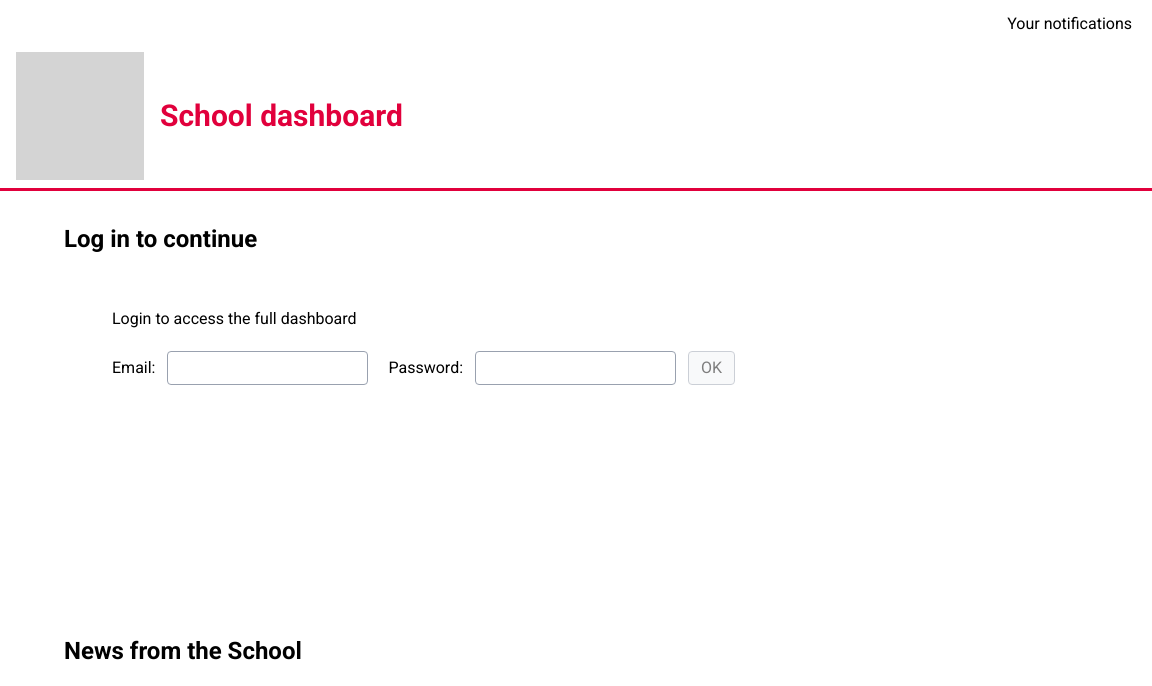
App component › removes a notification and logs its id when clicked
Click the button "Your notifications": (1070, 24) [1007,14,1132,33]
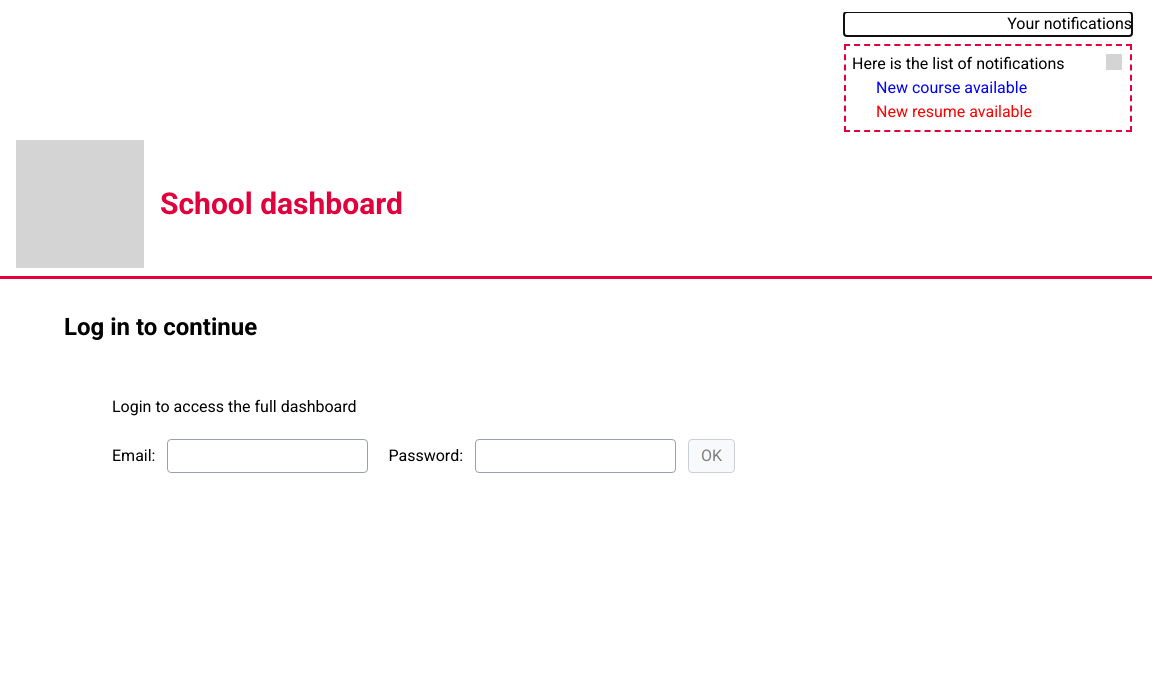
Check: the list item "New course available" is shown
Click the list item "New course available": (952, 88) [876,78,1027,97]
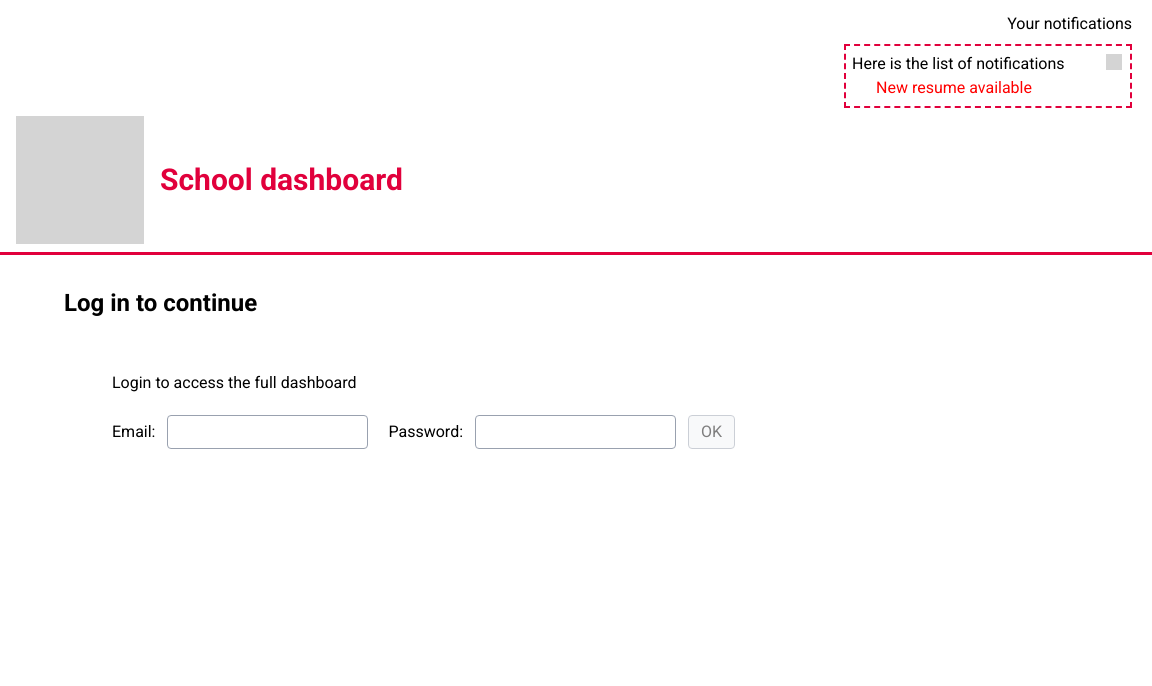
Check: the list item "New course available" is gone
